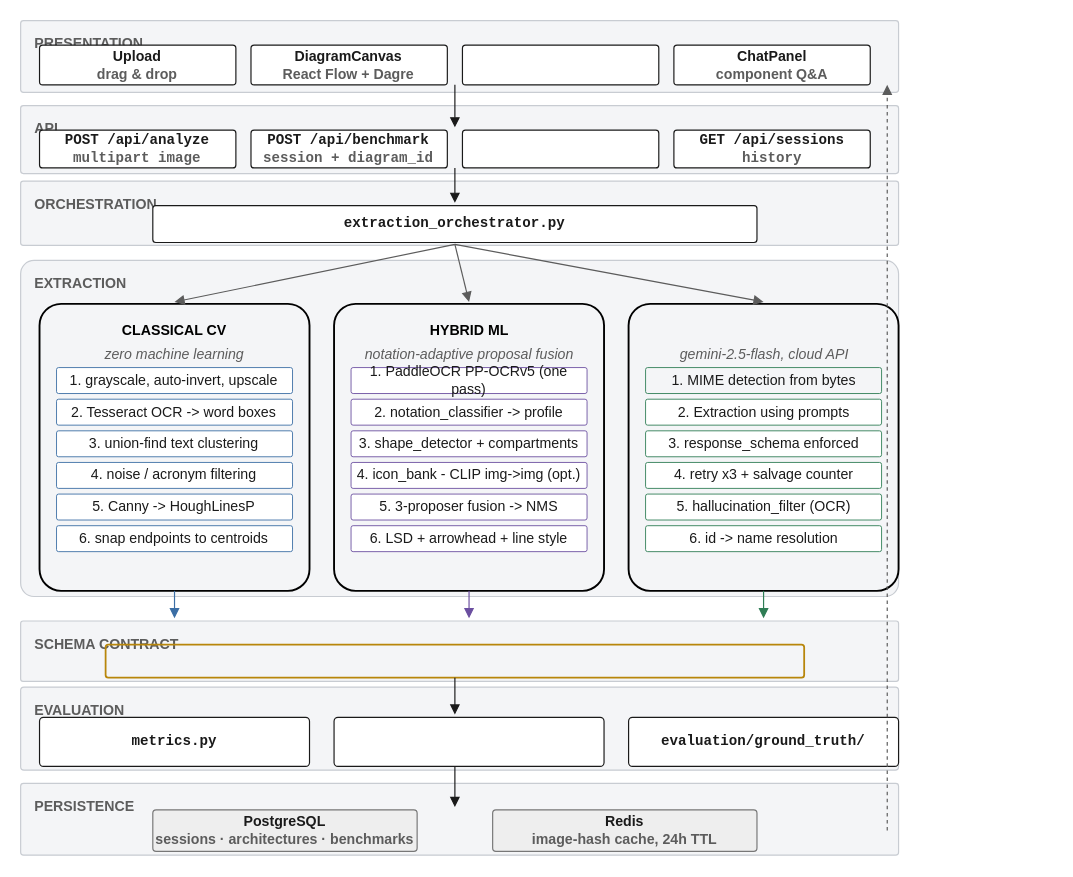
Some shapes in this 1073 by 877 pixel diagram are drawn without their labels. The centre of each missing label's shape, as x and y in pixels:
"BenchmarkPanel scores vs ground truth" goes at point 560,64.
"GEMINI VLM" goes at point 763,330.
"models/schemas.py · ArchitectureSchema" goes at point 454,660.
"POST /api/chat message + component_id" goes at point 560,148.
"routers/benchmark.py" goes at point 468,741.
"session reload" goes at point 909,439.
